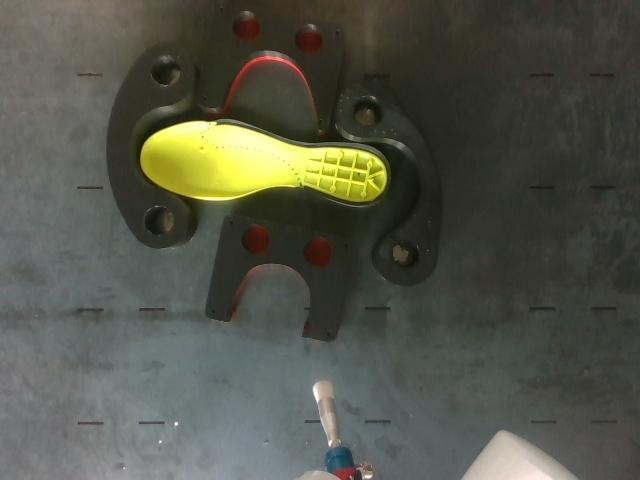shoes: (142, 123, 389, 206)
